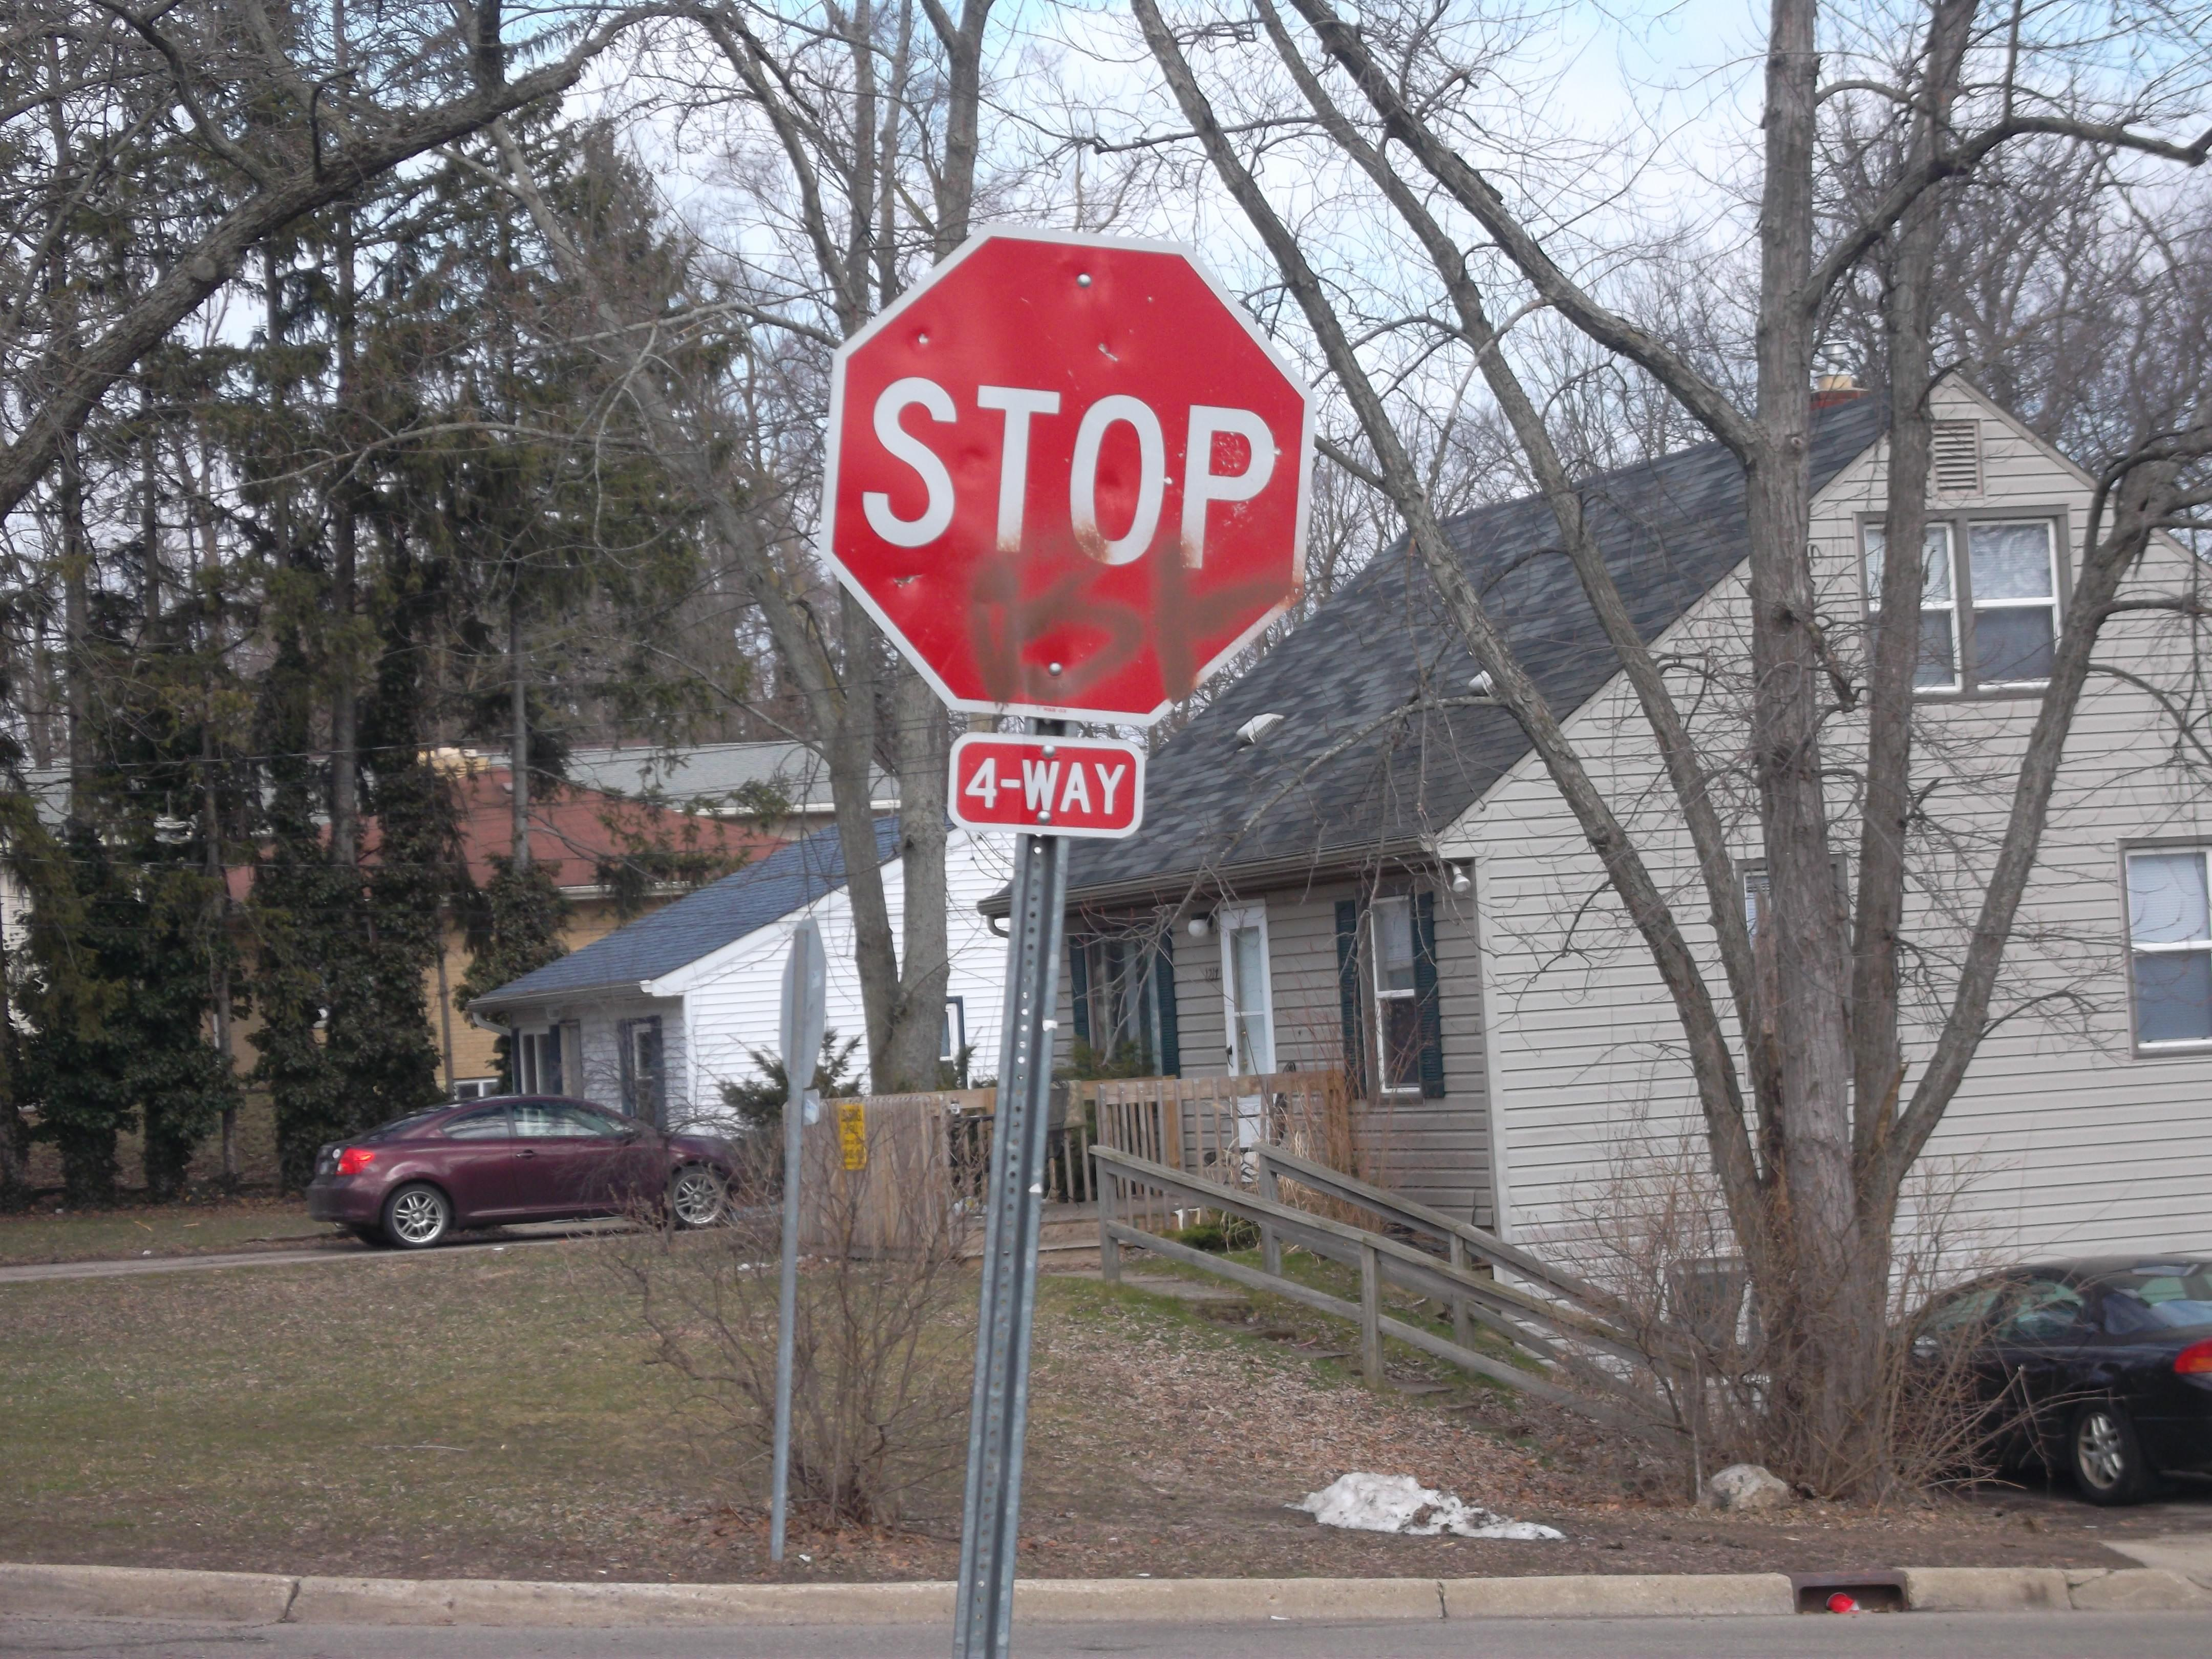stop: (813, 211, 1329, 734)
